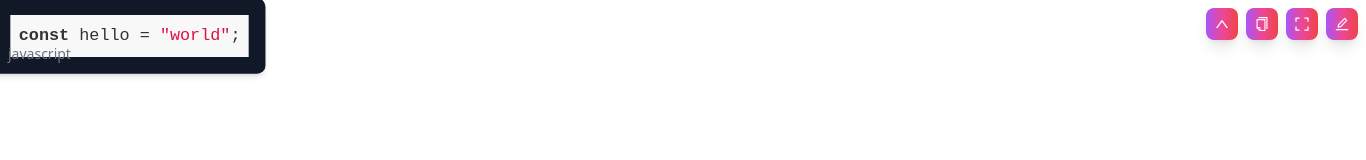
Test: CodeBlock Component › handles collapse button click
Click the button named "Toggle collapse" at (1222, 24), box [1206,8,1238,40]
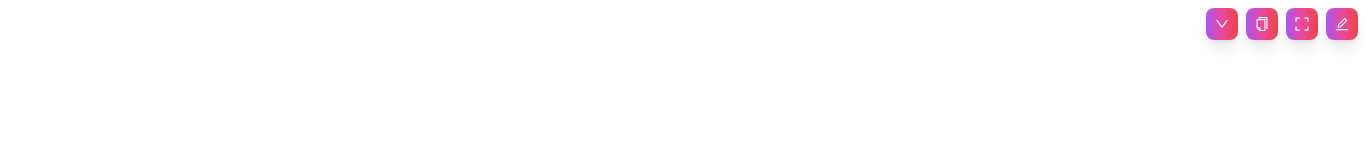
Expected: the text "const hello = \"world\";" is gone
Click the button named "Toggle collapse" at (1222, 24), box [1206,8,1238,40]
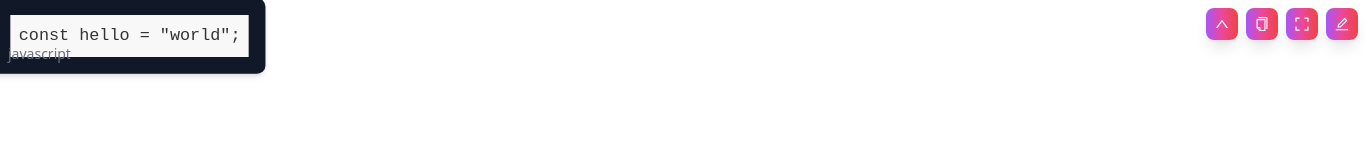
Expected: the text "const hello = \"world\";" is shown, [19,23,240,49]
